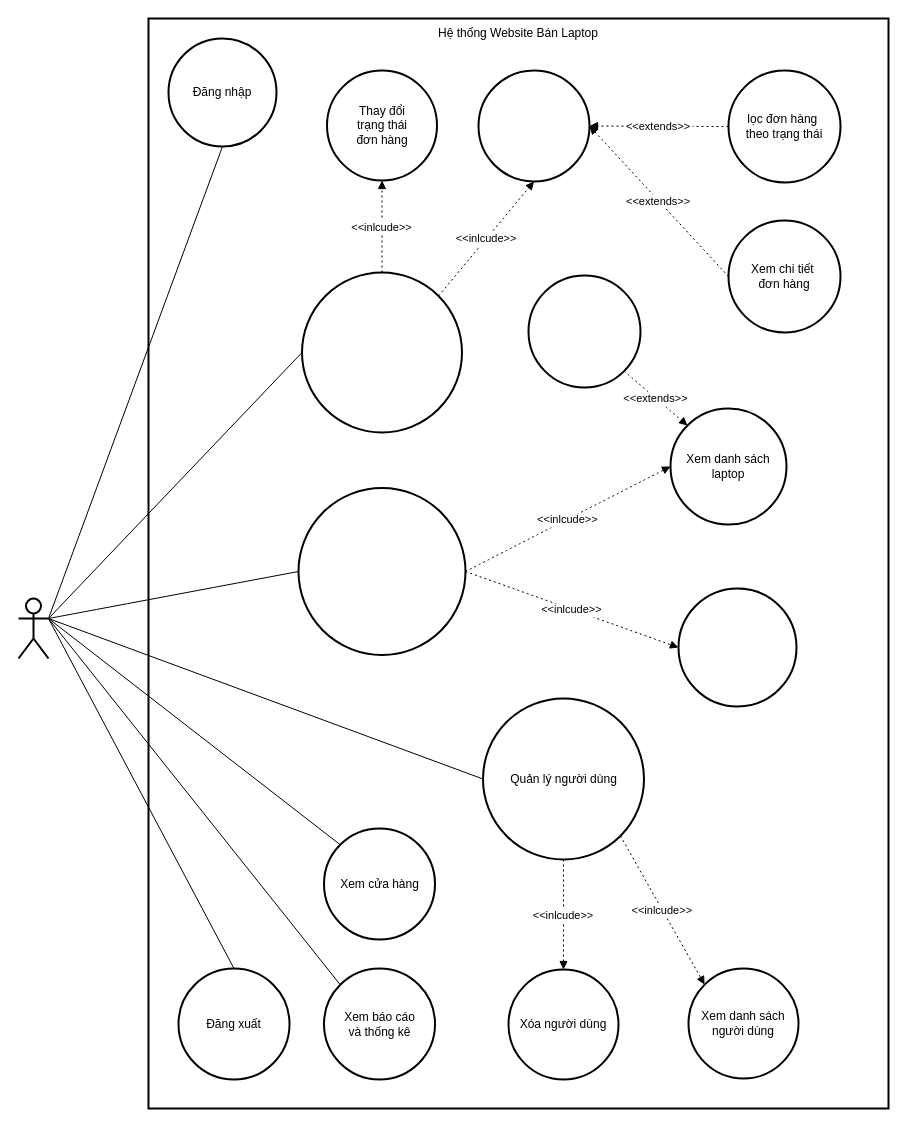
This 907x1126 diagram has some shape labels left out. The centre of each missing label's shape, as x and y in pixels:
admin: point (33, 628)
Quản lý sản phẩm: point (381, 571)
Quản lý đơn hàng: point (381, 352)
Thêm, sửa, xóa laptop: point (737, 647)
Tìm kiếm laptop: point (584, 331)
Xem danh sách đơn hàng: point (533, 125)
